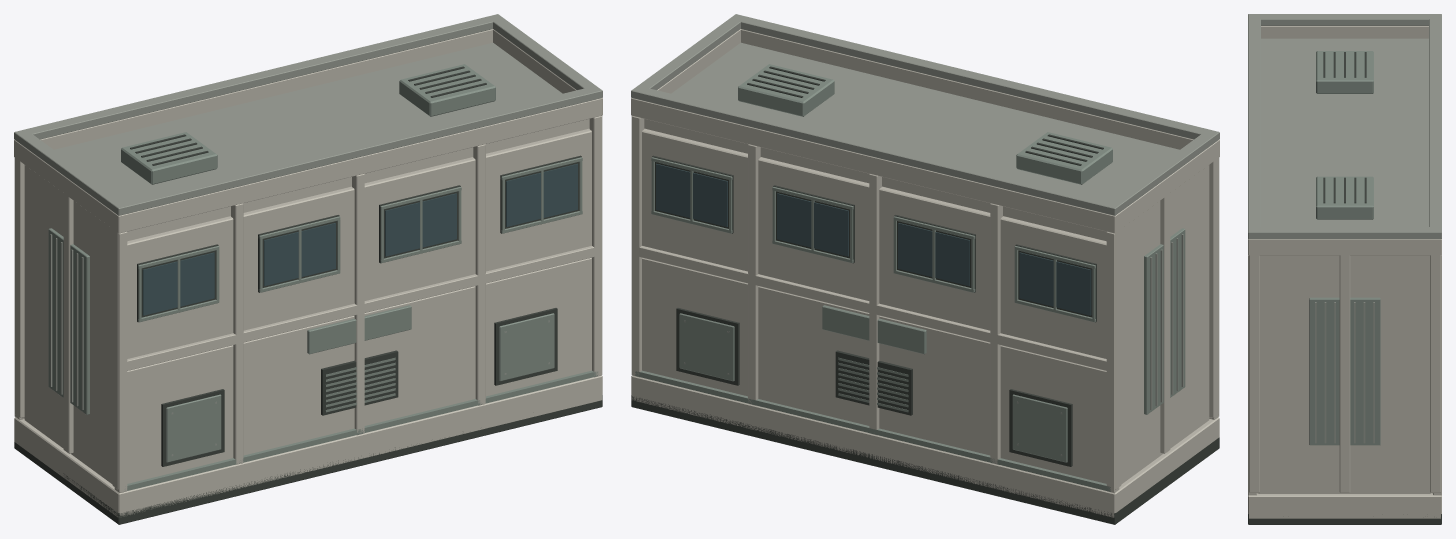
File: operations.glb
The picture shows the model from 3 angles, left to right: view 1: azimuth 30°, elevation 25°; view 2: azimuth 150°, elevation 25°; view 3: azimuth 270°, elevation 25°; orthographic projection. The views are drawn at different scales.
Visible parts, largest first — view 1: Concrete, RoofMetal, PaintedMetal, Recess, Glazing; view 2: Concrete, RoofMetal, PaintedMetal, Recess, Glazing; view 3: Concrete, RoofMetal, PaintedMetal, Recess.
Part boxes in pixels (bbox=[...]): Concrete: bbox=[14, 29, 602, 517]; RoofMetal: bbox=[14, 14, 602, 456]; PaintedMetal: bbox=[48, 64, 598, 490]; Recess: bbox=[14, 66, 602, 524]; Glazing: bbox=[142, 163, 577, 315]; Concrete: bbox=[631, 29, 1219, 517]; RoofMetal: bbox=[631, 14, 1219, 456]; PaintedMetal: bbox=[635, 64, 1185, 491]; Recess: bbox=[631, 66, 1219, 524]; Glazing: bbox=[656, 163, 1091, 315]; Concrete: bbox=[1248, 26, 1441, 518]; RoofMetal: bbox=[1248, 14, 1441, 443]; PaintedMetal: bbox=[1309, 51, 1380, 445]; Recess: bbox=[1248, 52, 1441, 524].
Bounding box in the file's own units: 8 × 5 × 3.
